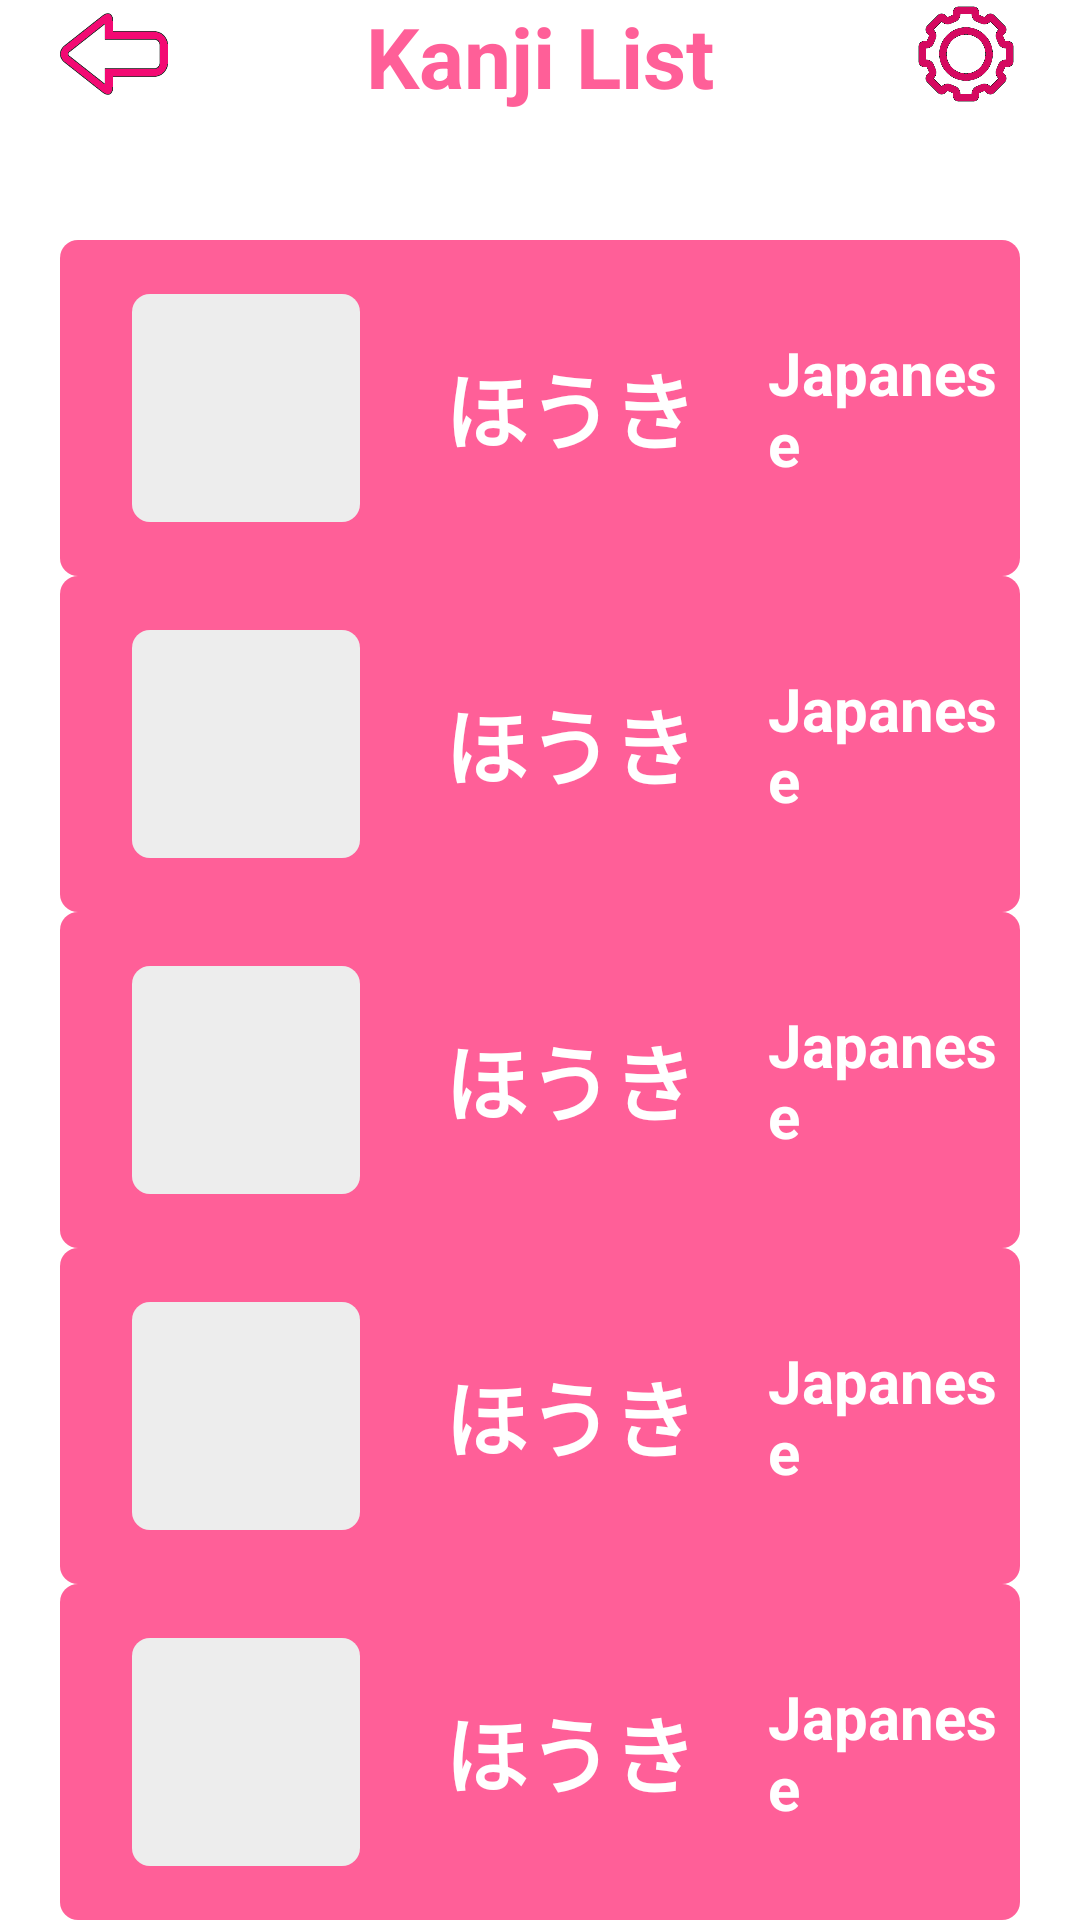

Screen size 1080w x 1920h. Icon name, then its center in pixels as [x,y]:
back: [114,54]
setting: [966,54]
